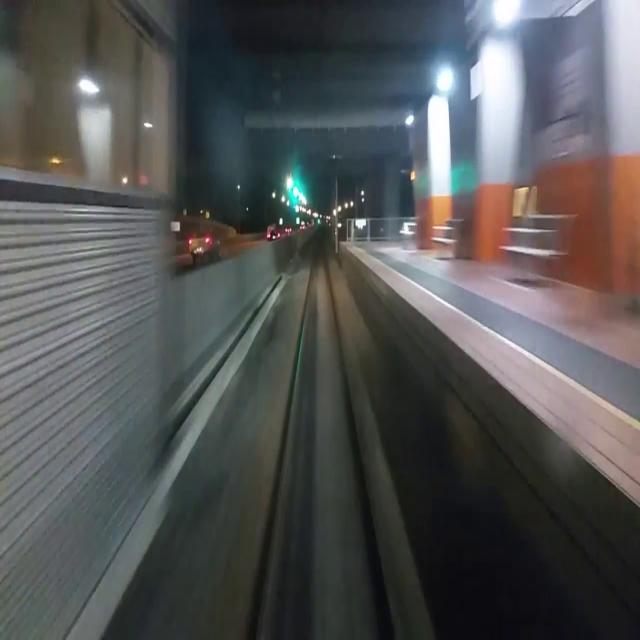rail-track: (270, 228, 384, 575)
